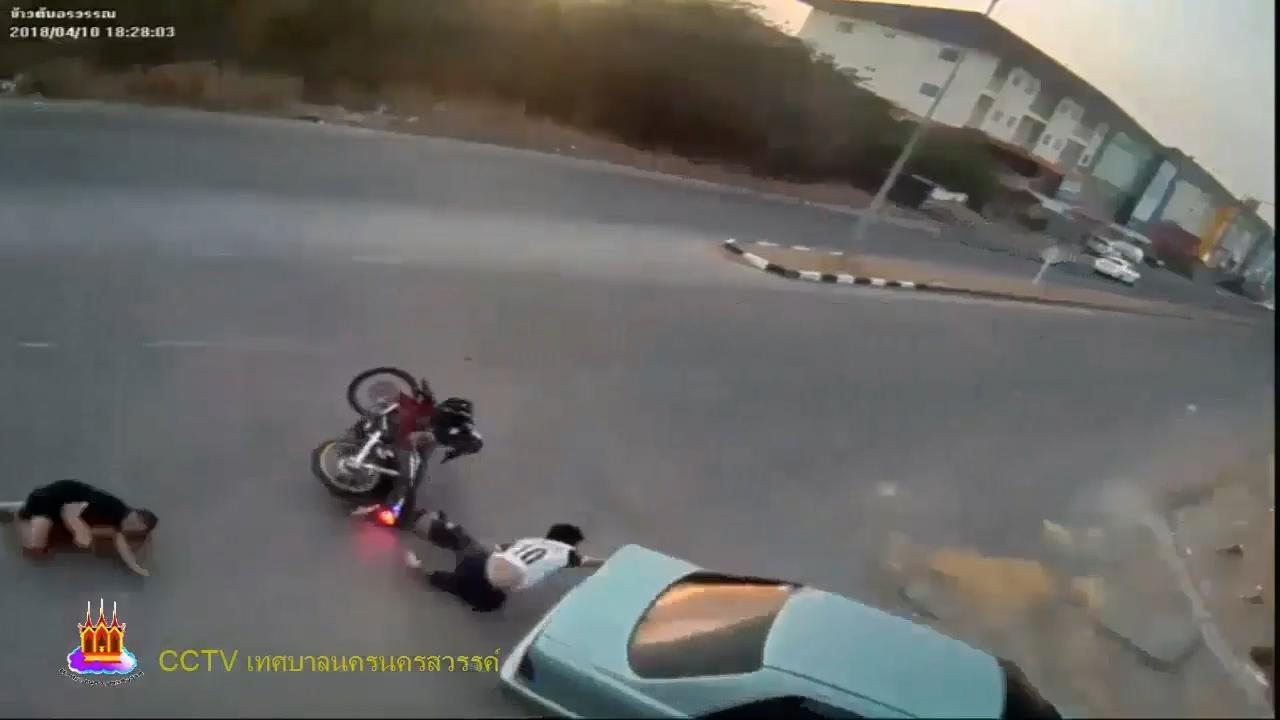accident: (403, 496, 606, 612), (0, 473, 163, 582)
